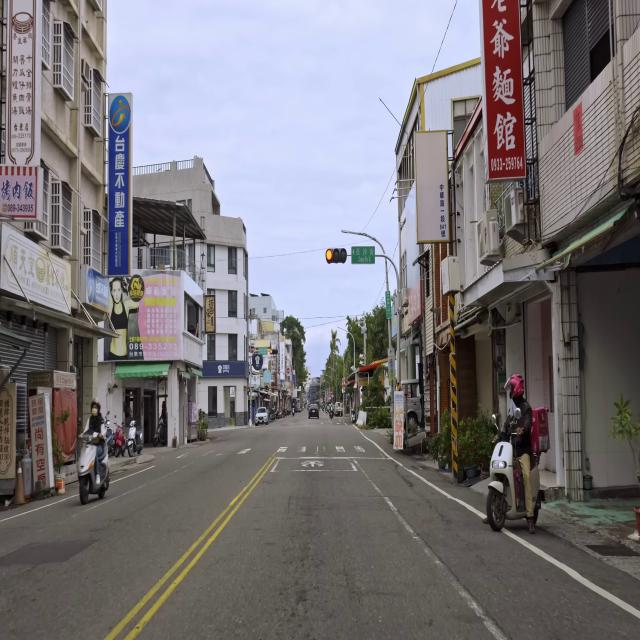red light: (326, 248, 346, 263), (270, 348, 278, 355)
